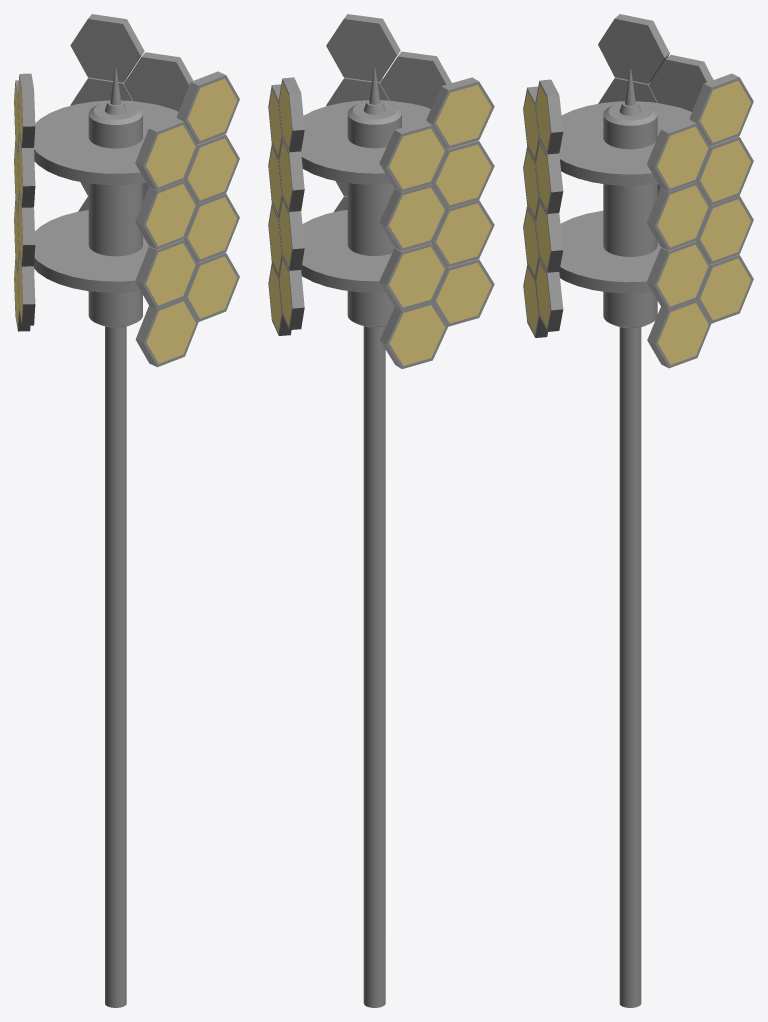
Rendered from Vertical_Array.fbx.
3 views of the same model, side by side, from view 1: azimuth 30°, elevation 25°; view 2: azimuth 150°, elevation 25°; view 3: azimuth 270°, elevation 25° (orthographic).
Visible parts, largest first — view 1: Sphere.002; view 2: Sphere.002; view 3: Sphere.002.
Boxes of the visible parts, x1,y1,x2,y2 form: Sphere.002: [14, 14, 239, 1007]; Sphere.002: [268, 14, 494, 1007]; Sphere.002: [523, 14, 753, 1007].
Bounding box in the file's own units: 0.8526 × 3.82 × 0.8499.
